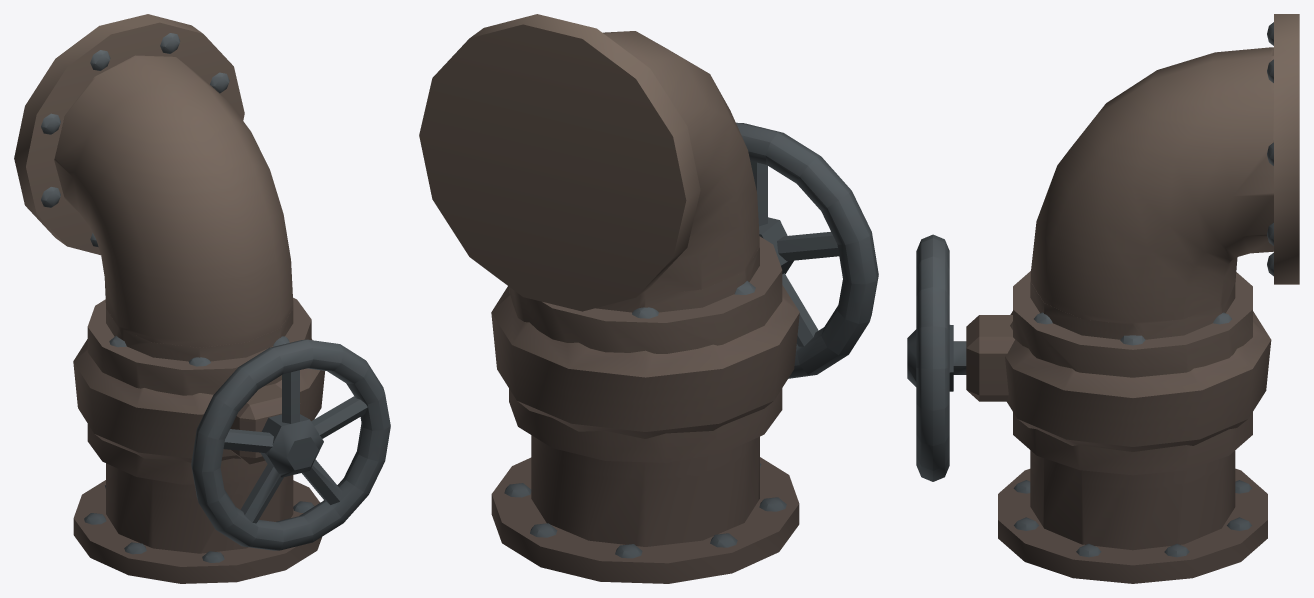
The model's file is valve.glb.
The picture shows the model from 3 angles, left to right: view 1: azimuth 30°, elevation 25°; view 2: azimuth 150°, elevation 25°; view 3: azimuth 270°, elevation 25°; orthographic projection. The views are drawn at different scales.
Visible parts, largest first — view 1: valve; view 2: valve; view 3: valve.
Part boxes in pixels (x1=…): valve: x1=14, y1=14, x2=390, y2=583; valve: x1=419, y1=14, x2=878, y2=583; valve: x1=907, y1=14, x2=1299, y2=583.
Size of the model in its own units: 1.08 by 2.15 by 1.53.
1 material, 1 textured.
